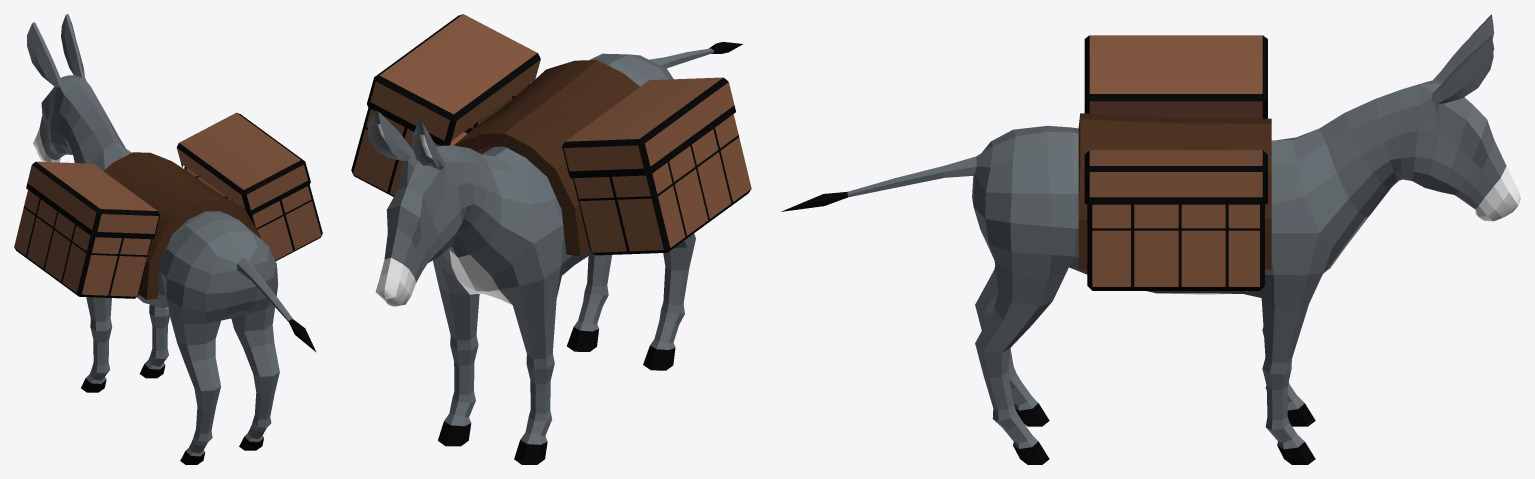
The model's file is Graciosa.glb.
The picture shows the model from 3 angles, left to right: view 1: azimuth 30°, elevation 25°; view 2: azimuth 150°, elevation 25°; view 3: azimuth 270°, elevation 25°; orthographic projection. The views are drawn at different scales.
Visible parts, largest first — view 1: PackR1_DonkeyGray_0, PackR1_PackLeather_0, PackR1_Saddle_0, PackR1_PackBelt_0, PackR1_DonkeyBlack_0; view 2: PackR1_DonkeyGray_0, PackR1_PackLeather_0, PackR1_Saddle_0, PackR1_PackBelt_0, PackR1_DonkeyWhite_0, PackR1_DonkeyBlack_0; view 3: PackR1_DonkeyGray_0, PackR1_PackLeather_0, PackR1_PackBelt_0, PackR1_Saddle_0, PackR1_DonkeyBlack_0, PackR1_DonkeyWhite_0.
Part boxes in pixels (bbox=[...]): PackR1_DonkeyGray_0: bbox=[27, 14, 293, 456]; PackR1_PackLeather_0: bbox=[14, 112, 321, 296]; PackR1_Saddle_0: bbox=[103, 152, 260, 299]; PackR1_PackBelt_0: bbox=[14, 113, 322, 298]; PackR1_DonkeyBlack_0: bbox=[81, 319, 316, 464]; PackR1_DonkeyGray_0: bbox=[368, 48, 713, 444]; PackR1_PackLeather_0: bbox=[353, 14, 751, 252]; PackR1_Saddle_0: bbox=[454, 60, 639, 256]; PackR1_PackBelt_0: bbox=[351, 14, 751, 255]; PackR1_DonkeyWhite_0: bbox=[375, 124, 511, 306]; PackR1_DonkeyBlack_0: bbox=[438, 42, 742, 464]; PackR1_DonkeyGray_0: bbox=[847, 14, 1506, 449]; PackR1_PackLeather_0: bbox=[1089, 35, 1262, 286]; PackR1_PackBelt_0: bbox=[1084, 35, 1267, 290]; PackR1_Saddle_0: bbox=[1078, 113, 1271, 269]; PackR1_DonkeyBlack_0: bbox=[781, 191, 1315, 464]; PackR1_DonkeyWhite_0: bbox=[1158, 166, 1520, 294].
Bounding box in the file's own units: 137 × 165 × 268.
